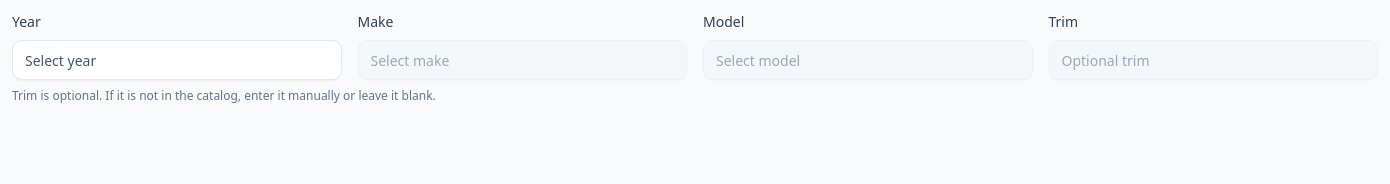
Test: UI-VEH — cascading selection state transitions › UI-VEH-03: choosing a suggestion updates the controlled field
This screenshot has width=1390, height=184.
Click the dropdown labelled "Year" at (177, 60), box x1=12 y1=40 x2=342 y2=80
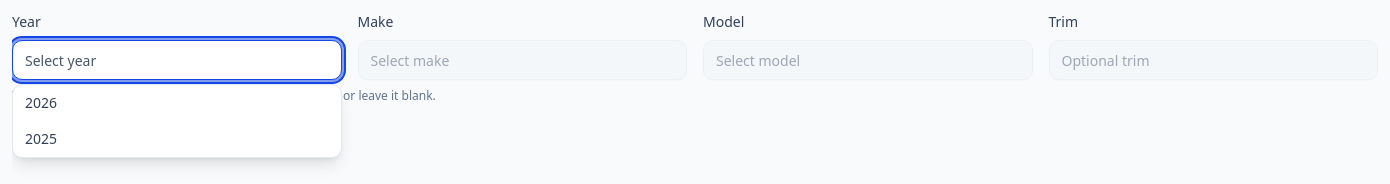
Click the option "2026" at (41, 102), box x1=25 y1=93 x2=57 y2=112
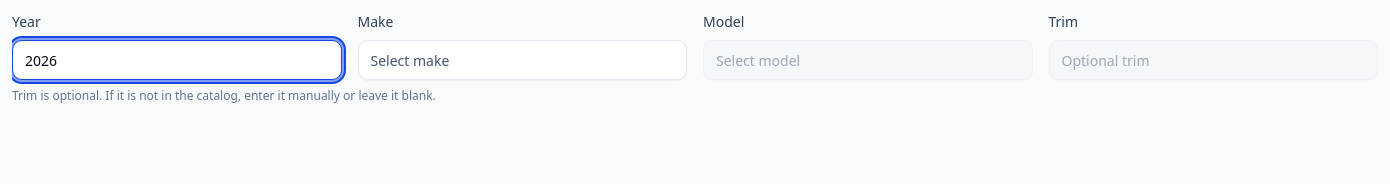
Expected: the dropdown labelled "Model" is disabled, x1=703 y1=40 x2=1032 y2=80
Now the dropdown labelled "Year" holds "2026", box x1=12 y1=40 x2=342 y2=80
Now the dropdown labelled "Make" is enabled, box x1=358 y1=40 x2=687 y2=80
